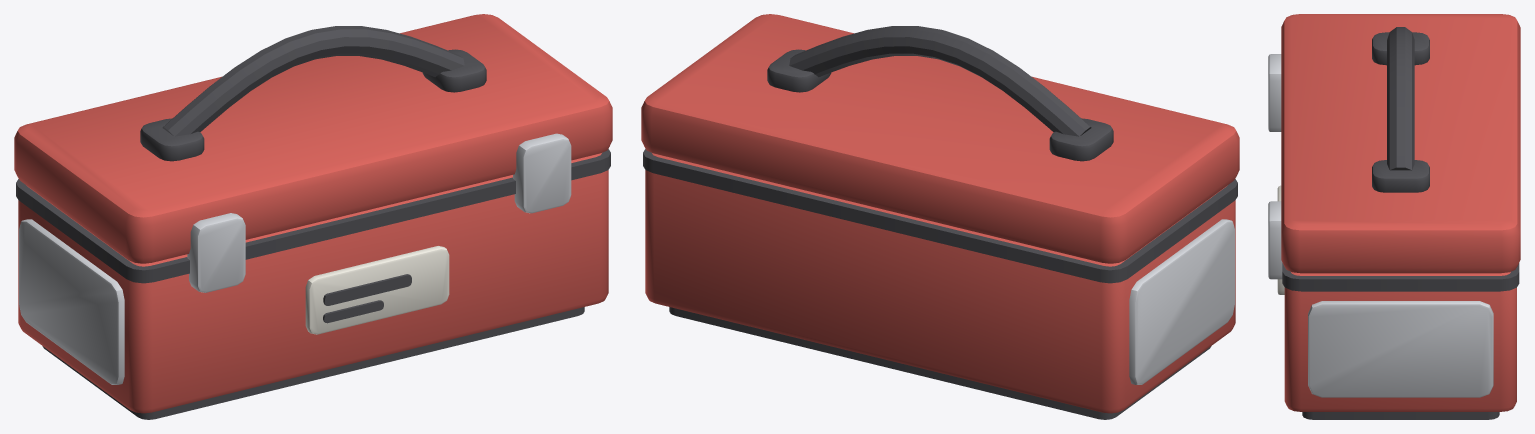
The model's file is SM_ReqToolbox.fbx.
3 views of the same model, side by side, from view 1: azimuth 30°, elevation 25°; view 2: azimuth 150°, elevation 25°; view 3: azimuth 270°, elevation 25° (orthographic). The views are drawn at different scales.
Parts seen in each view (by area): view 1: ReqToolbox; view 2: ReqToolbox; view 3: ReqToolbox.
Boxes of the visible parts, x1,y1,x2,y2 form: ReqToolbox: (14, 14, 612, 419); ReqToolbox: (641, 14, 1239, 419); ReqToolbox: (1268, 14, 1520, 419).
Bounding box in the file's own units: 0.452 × 0.2614 × 0.217.
